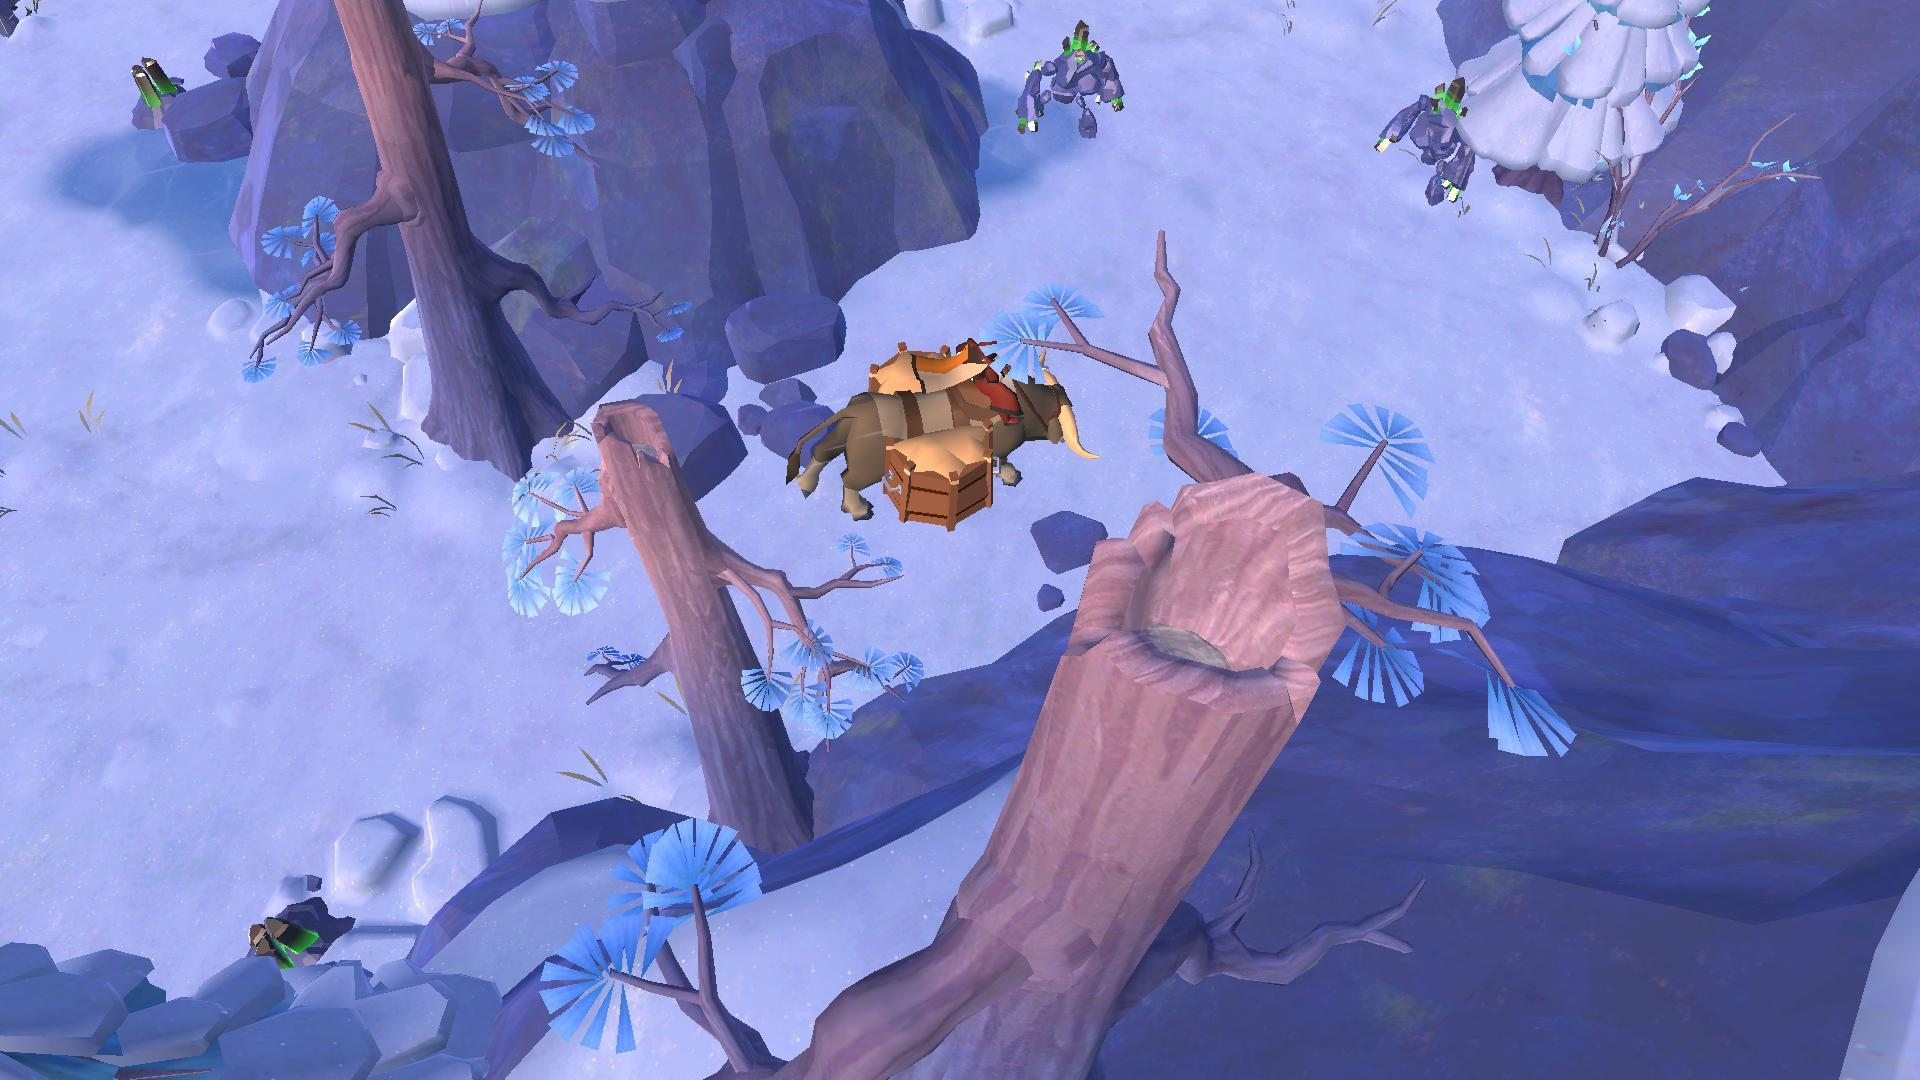ore_t3: (247, 909, 319, 968), (123, 53, 182, 112)
